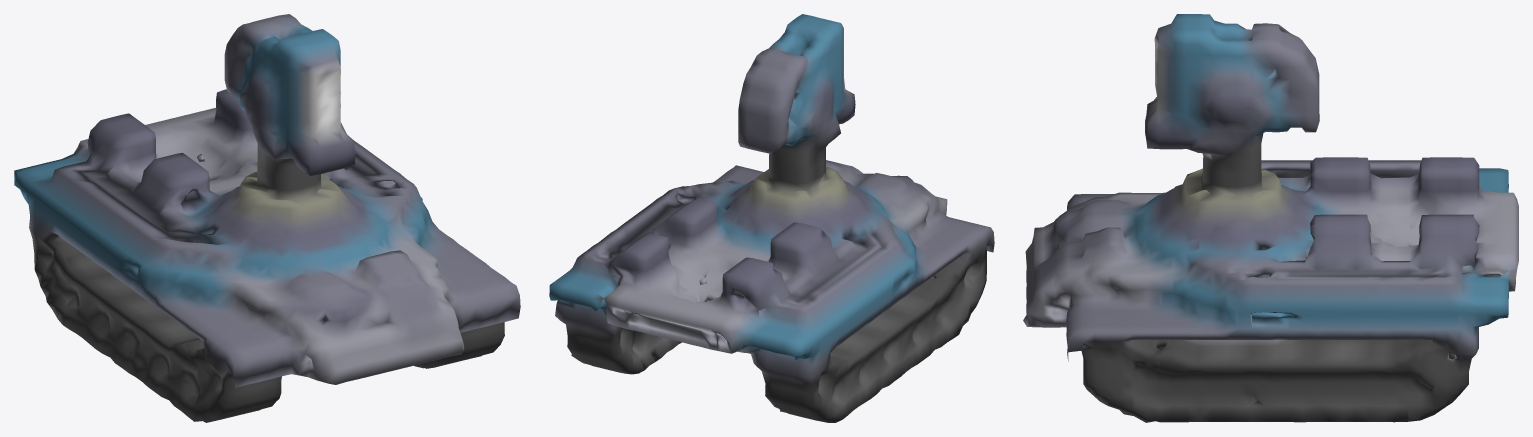
The model's file is prism_tank.glb.
The picture shows the model from 3 angles, left to right: view 1: azimuth 30°, elevation 25°; view 2: azimuth 150°, elevation 25°; view 3: azimuth 270°, elevation 25°; orthographic projection. The views are drawn at different scales.
Visible parts, largest first — view 1: prism_tank; view 2: prism_tank; view 3: prism_tank.
Boxes of the visible parts, box(x1,y1,x2,y2) form: prism_tank: box(14, 14, 520, 422); prism_tank: box(549, 14, 994, 422); prism_tank: box(1023, 14, 1518, 422).
Size of the model in its own units: 2.79 by 3.06 by 4.12.
